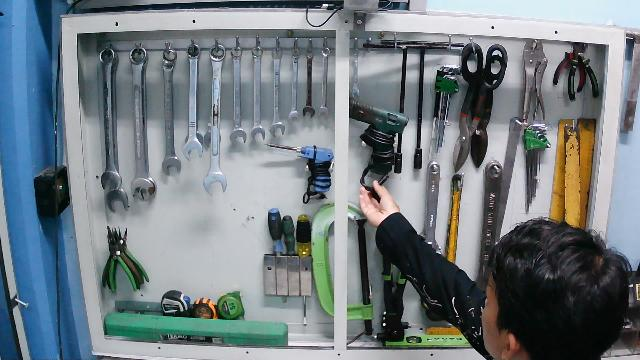gun_lem: (349, 91, 410, 218)
